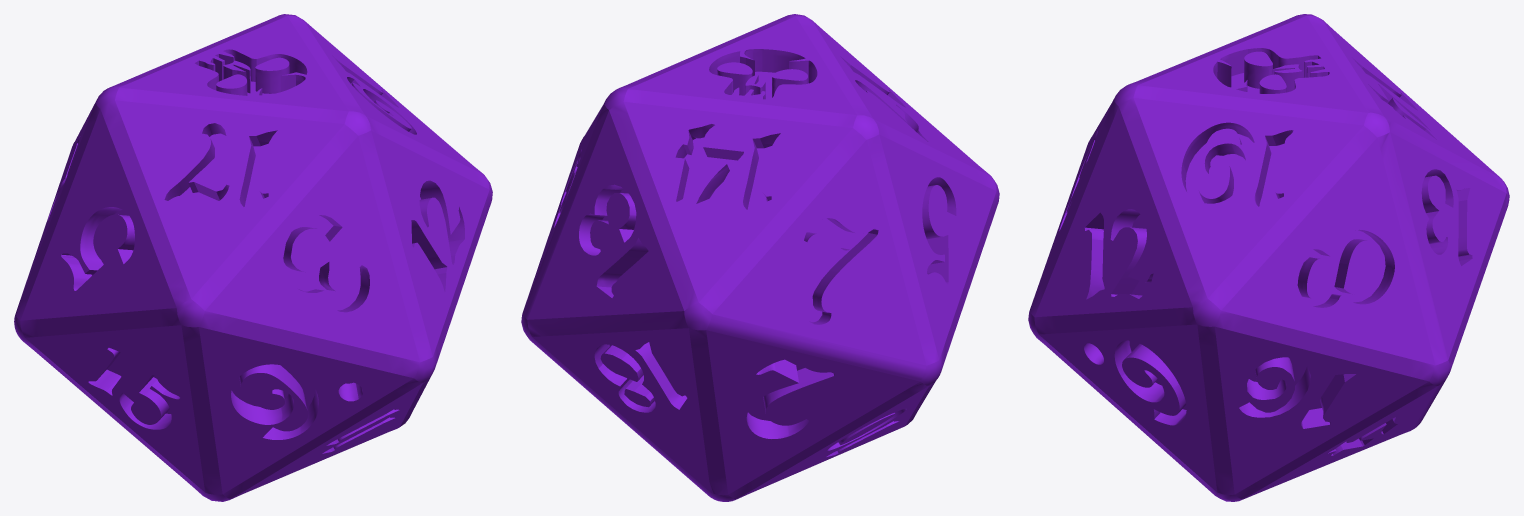
The picture shows the model from 3 angles, left to right: view 1: azimuth 30°, elevation 25°; view 2: azimuth 150°, elevation 25°; view 3: azimuth 270°, elevation 25°; orthographic projection.
Parts seen in each view (by area): view 1: model; view 2: model; view 3: model.
Part boxes in pixels (x1=…): model: x1=14, y1=14, x2=492, y2=501; model: x1=521, y1=14, x2=999, y2=501; model: x1=1028, y1=14, x2=1509, y2=501.
Size of the model in its own units: 3797 by 3270 by 3804.
